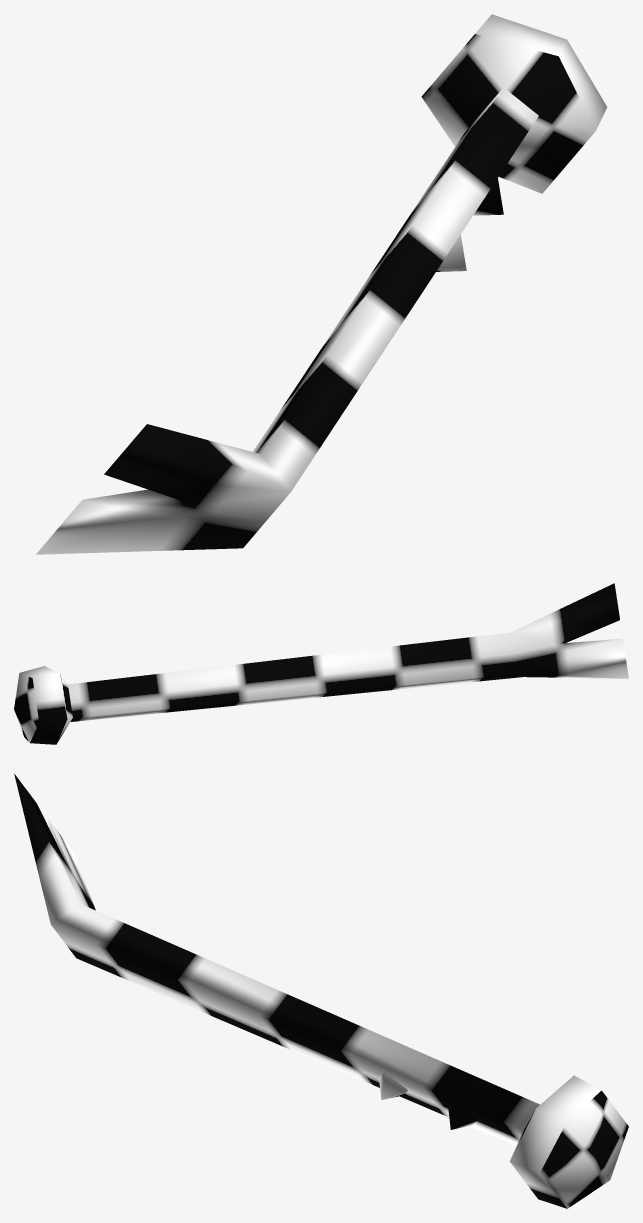
The model's file is initqi37.dae.
The picture shows the model from 3 angles, top to bottom: view 1: azimuth 30°, elevation 25°; view 2: azimuth 150°, elevation 25°; view 3: azimuth 270°, elevation 25°; orthographic projection. The views are drawn at different scales.
Parts seen in each view (by area): view 1: item; view 2: item; view 3: item.
Part boxes in pixels (left/top/right/bottom): item: left=36, top=14, right=607, bottom=554; item: left=14, top=583, right=628, bottom=744; item: left=14, top=773, right=628, bottom=1208.
Bounding box in the file's own units: 1.56 × 1.29 × 0.3698.
Materials: 1 (1 with a texture image).
